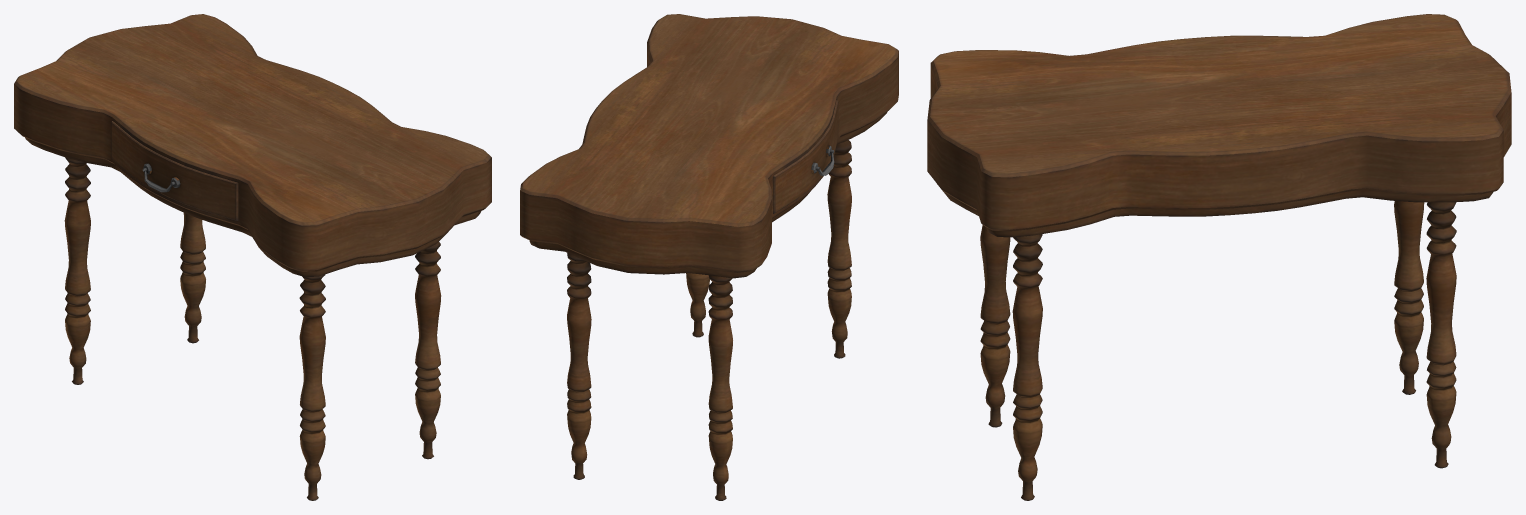
File: Table_2.glb
3 renders of one model, left to right at view 1: azimuth 30°, elevation 25°; view 2: azimuth 150°, elevation 25°; view 3: azimuth 270°, elevation 25°, orthographic. The views are drawn at different scales.
Visible parts, largest first — view 1: Object_7.009, Object_7.018, Object_7.002, Object_7, Object_7.001, Object_8.023, Object_7.003, Object_7.017, Object_7.013, Object_7.011, Object_7.014; view 2: Object_7.009, Object_7.018, Object_7.002, Object_7.003, Object_7, Object_8.023, Object_7.017, Object_7.012, Object_7.001, Object_7.014, Object_7.013; view 3: Object_7.009, Object_7.019, Object_7.003, Object_7.001, Object_7, Object_7.002, Object_7.018, Object_7.010, Object_7.017, Object_7.015.
Part boxes in pixels (x1,y1,x2,y2): Object_7.009: [16, 14, 489, 222]; Object_7.018: [14, 84, 491, 270]; Object_7.002: [64, 157, 90, 384]; Object_7: [299, 274, 325, 500]; Object_7.001: [415, 242, 441, 459]; Object_8.023: [111, 123, 235, 219]; Object_7.003: [180, 213, 205, 343]; Object_7.017: [14, 36, 491, 225]; Object_7.013: [25, 137, 304, 276]; Object_7.011: [304, 211, 481, 276]; Object_7.014: [21, 135, 485, 271]; Object_7.009: [522, 14, 896, 223]; Object_7.018: [520, 51, 898, 271]; Object_7.002: [708, 275, 732, 500]; Object_7.003: [567, 253, 591, 479]; Object_7: [827, 140, 851, 358]; Object_8.023: [775, 102, 838, 212]; Object_7.017: [520, 20, 898, 226]; Object_7.012: [529, 240, 747, 278]; Object_7.001: [686, 273, 709, 337]; Object_7.014: [520, 110, 888, 272]; Object_7.013: [746, 112, 887, 276]; Object_7.009: [930, 14, 1508, 173]; Object_7.019: [991, 135, 1498, 229]; Object_7.003: [1426, 202, 1456, 468]; Object_7.001: [1012, 234, 1042, 500]; Object_7: [980, 225, 1010, 427]; Object_7.002: [1394, 201, 1424, 394]; Object_7.018: [927, 63, 1511, 228]; Object_7.010: [996, 189, 1490, 237]; Object_7.017: [927, 20, 1511, 177]; Object_7.015: [991, 188, 1498, 231].
Bounding box in the file's own units: 9.44 × 9.56 × 14.35.
Materials: 2 (2 with a texture image).
